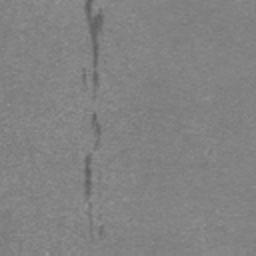Red iron sheet: (84, 0, 104, 87), (91, 113, 102, 148), (84, 154, 92, 198), (99, 226, 104, 236)
